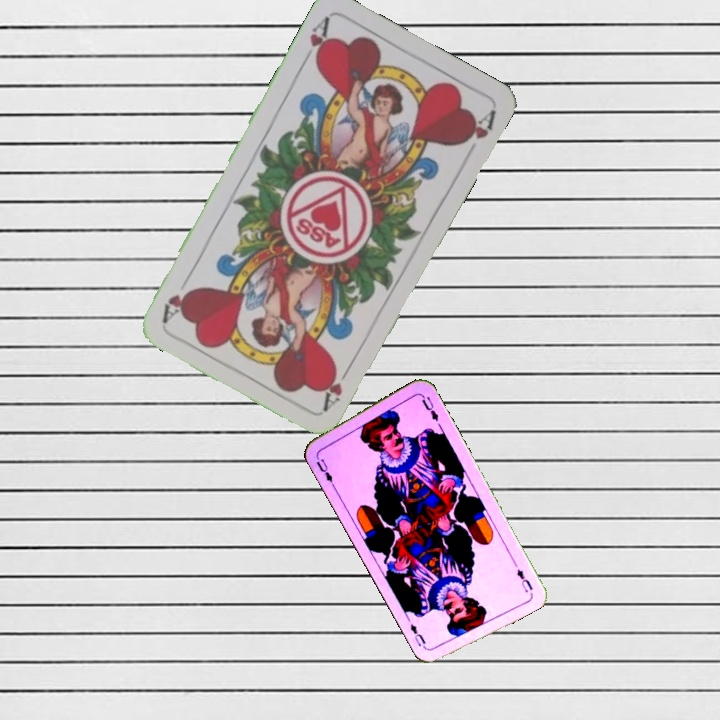EU: (312, 450, 337, 489), (513, 565, 535, 595)
HA: (318, 359, 355, 413), (297, 13, 333, 68)
